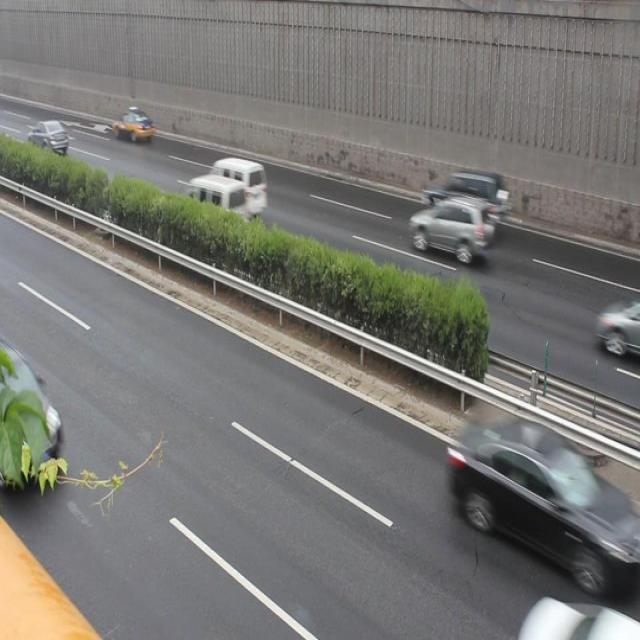car: (450, 413, 620, 588), (1, 348, 63, 495), (423, 172, 508, 238), (408, 197, 489, 264), (596, 297, 640, 365), (112, 110, 154, 142)
truck: (179, 175, 247, 242), (199, 158, 267, 214)
